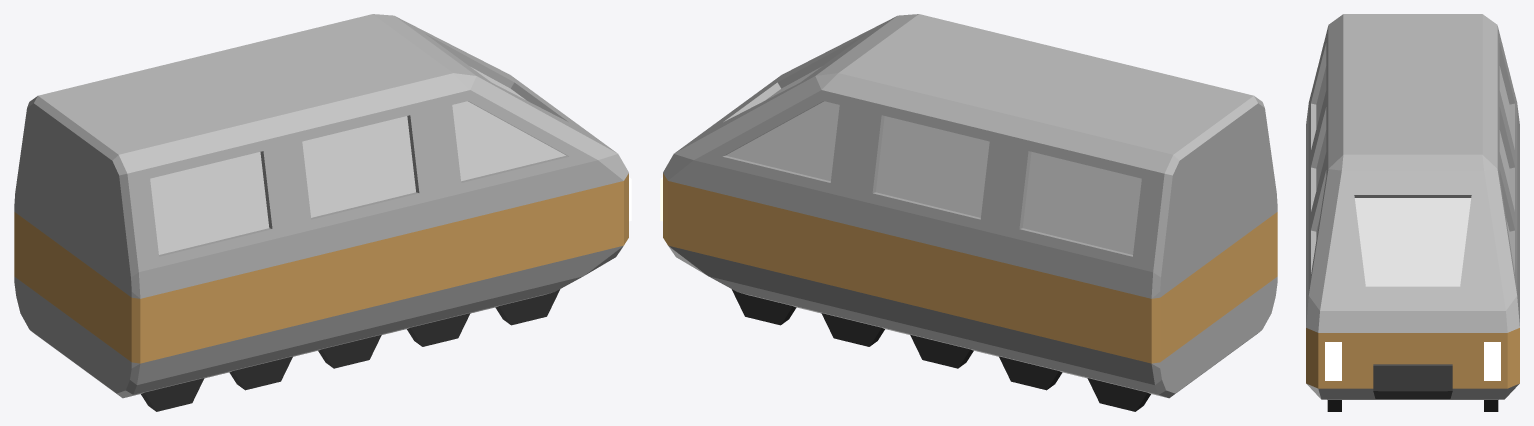
The model's file is Electric.fbx.
The picture shows the model from 3 angles, left to right: view 1: azimuth 30°, elevation 25°; view 2: azimuth 150°, elevation 25°; view 3: azimuth 270°, elevation 25°; orthographic projection. The views are drawn at different scales.
Parts seen in each view (by area): view 1: Main, Wheels.001; view 2: Main, Wheels.001; view 3: Main, Radiator, Headlights, Wheels.001.
Boxes of the visible parts, <box> form: Main: <box>14,14,628,398</box>; Wheels.001: <box>141,289,560,411</box>; Main: <box>663,14,1277,398</box>; Wheels.001: <box>731,289,1150,411</box>; Main: <box>1306,14,1519,399</box>; Radiator: <box>1373,364,1452,398</box>; Headlights: <box>1325,342,1500,380</box>; Wheels.001: <box>1327,400,1498,411</box>.
Bounding box in the file's own units: 236 × 114 × 100.
